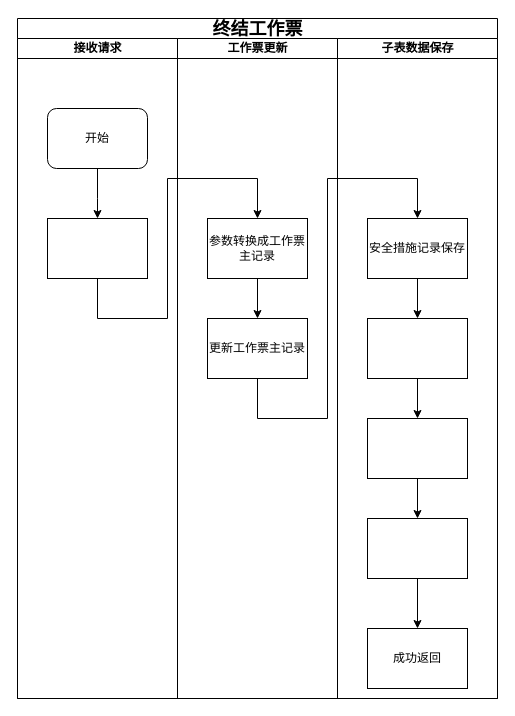
The diagram is 515 pixels wide and 716 high, and some of its shapes have lost their labels. Each missing label, with the centre of its shape:
工作终结数据保存: (417,348)
工作许可数据保存: (417,448)
请求参数转换成工作票变更入参对象: (97,248)
配电安全措施数据保存: (417,548)
